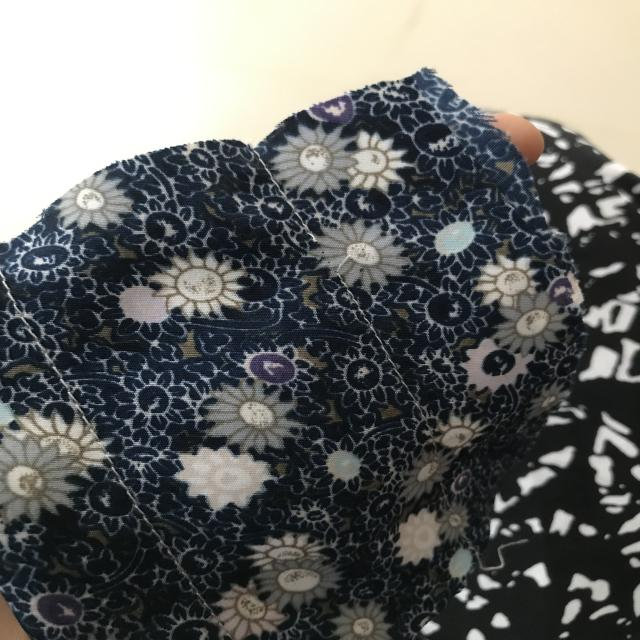broken: (296, 230, 361, 294)
